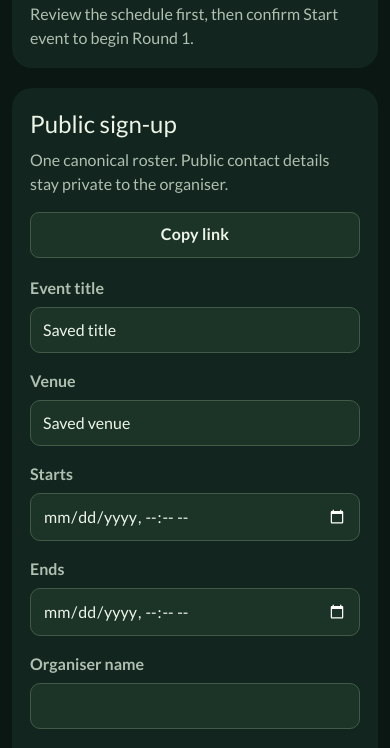
Scenario: Americano release safety › only discards dirty fields when explicitly reloading a conflict
(page scrolled)
Replace the text in the field labelled "Event title" with "Unsaved title" at [195, 330], box [30,307,360,353]
(page scrolled)
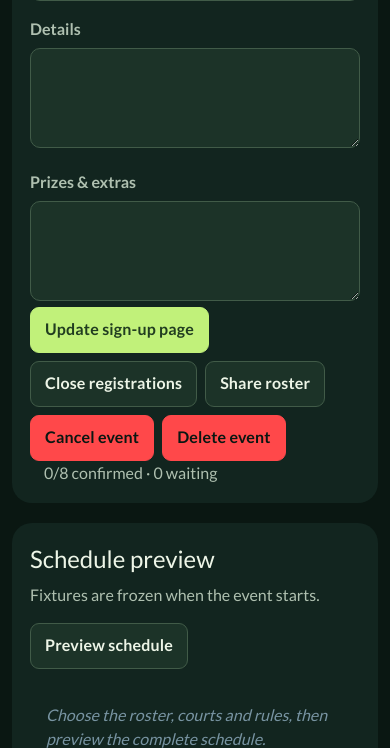
Click the button "Update sign-up page" at [120, 330], box [30,307,209,353]
(page scrolled)
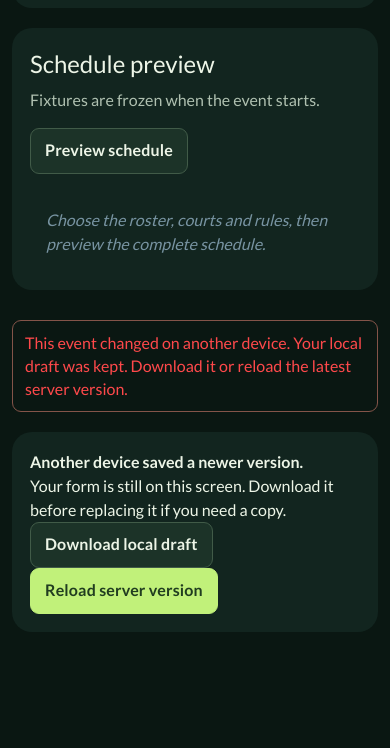
Now the number of buttons "Reload server version" is 1
Click the button "Reload server version" at [124, 591], box [30,568,218,614]
(page scrolled)
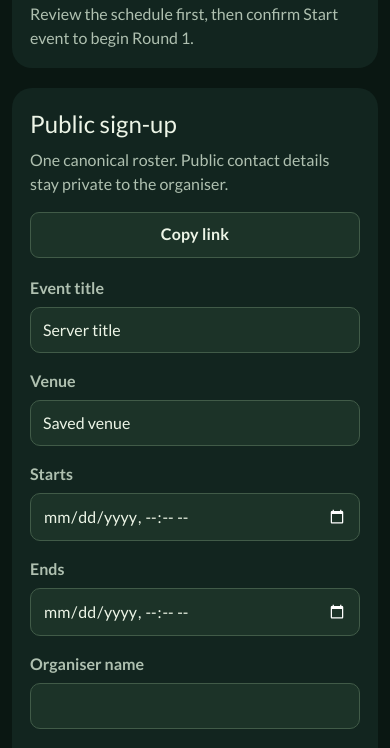
Now the field labelled "Event title" holds "Server title", box [30,307,360,353]
